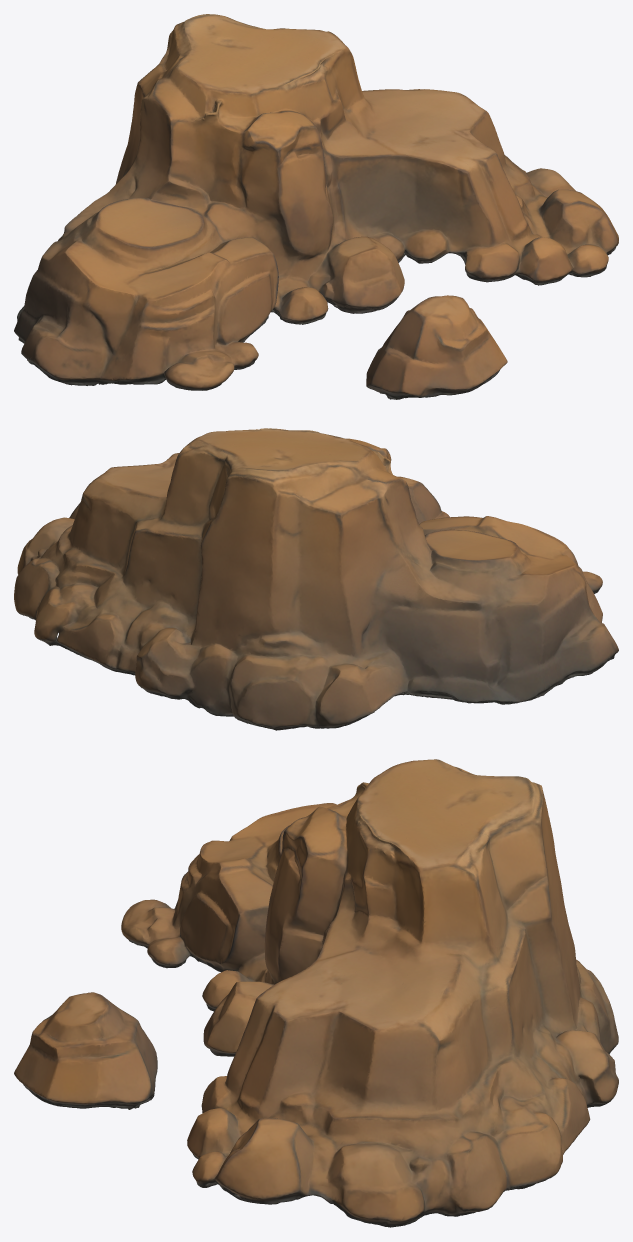
File: dekor-01.glb
3 renders of one model, top to bottom at view 1: azimuth 30°, elevation 25°; view 2: azimuth 150°, elevation 25°; view 3: azimuth 270°, elevation 25°, orthographic. The views are drawn at different scales.
Visible parts, largest first — view 1: geometry_0; view 2: geometry_0; view 3: geometry_0.
Boxes of the visible parts, x1,y1,x2,y2 form: geometry_0: [14, 14, 618, 399]; geometry_0: [14, 428, 618, 730]; geometry_0: [14, 759, 618, 1227].
Bounding box in the file's own units: 0.9992 × 0.427 × 0.7728.
1 material, 1 textured.
